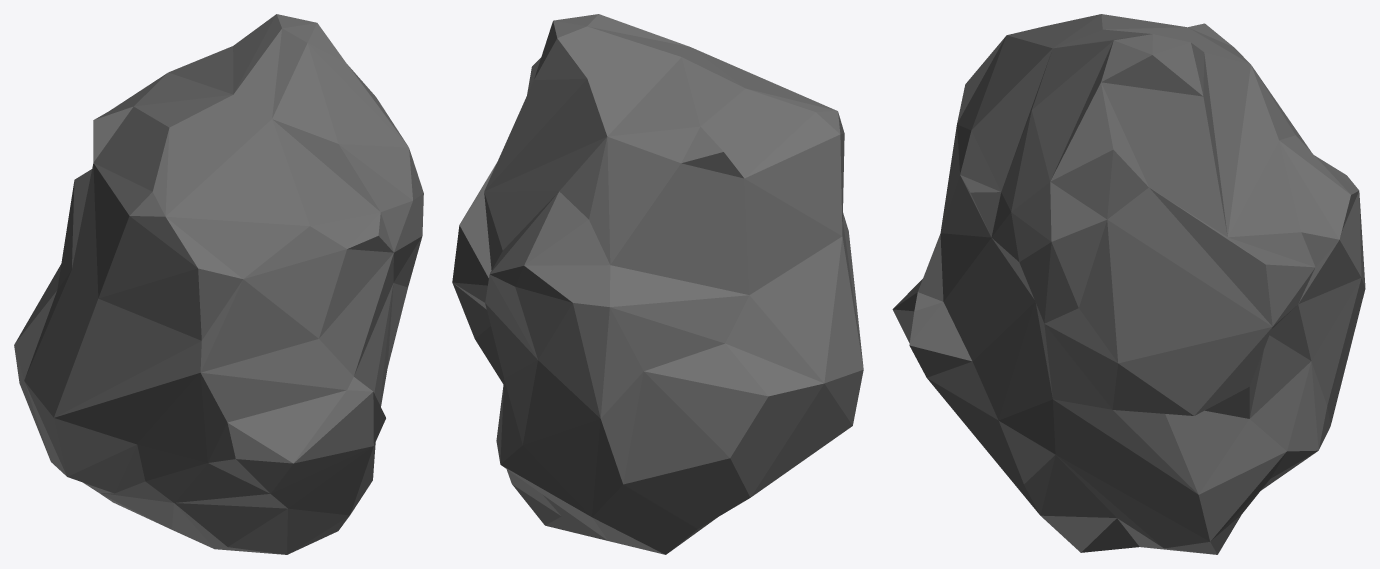
File: stoun_10.fbx
The picture shows the model from 3 angles, left to right: view 1: azimuth 30°, elevation 25°; view 2: azimuth 150°, elevation 25°; view 3: azimuth 270°, elevation 25°; orthographic projection. The views are drawn at different scales.
Parts seen in each view (by area): view 1: Object.011; view 2: Object.011; view 3: Object.011.
Part boxes in pixels (<box>): Object.011: <box>14,14,423,554</box>; Object.011: <box>452,14,863,554</box>; Object.011: <box>892,14,1365,554</box>.
Bounding box in the file's own units: 72.97 × 99.08 × 80.08.
